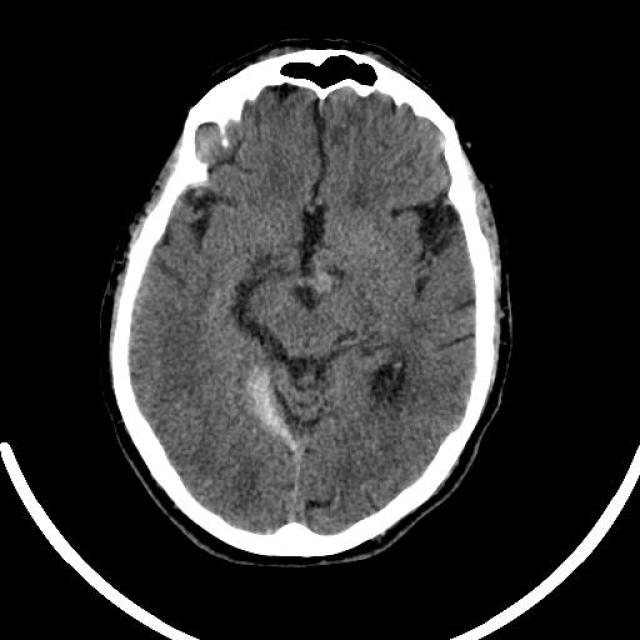Subdural: (229, 371, 335, 535)
